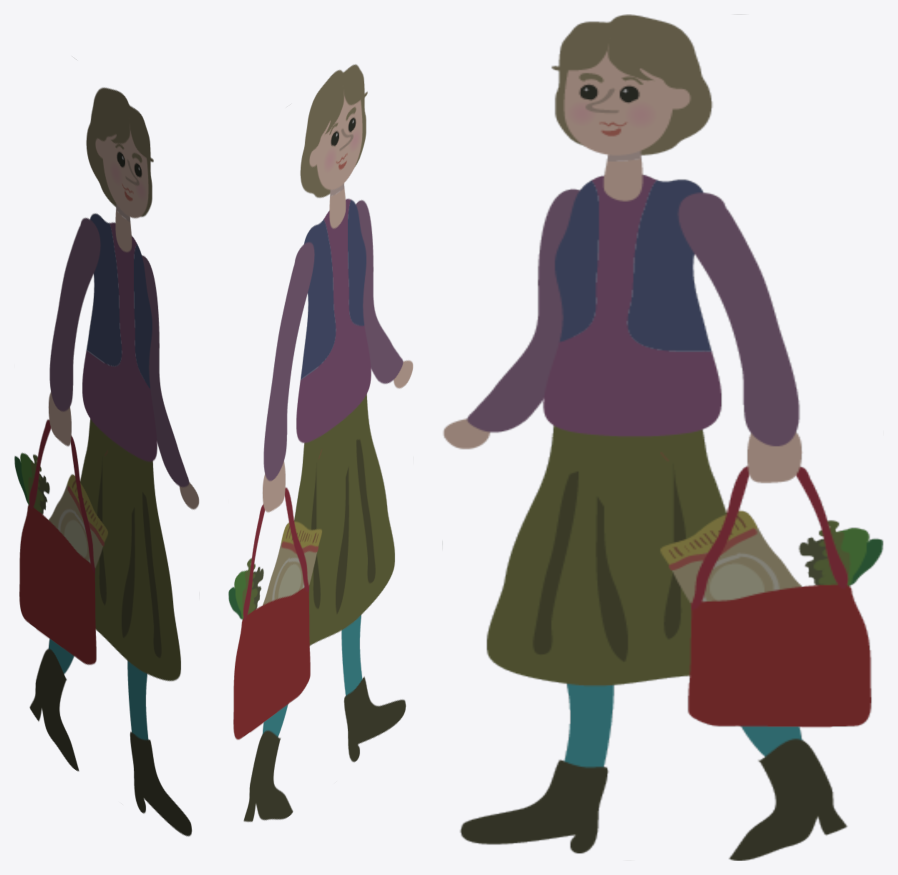
Rendered from bp_scene_6_woman.gltf.
3 views of the same model, side by side, from view 1: azimuth 30°, elevation 25°; view 2: azimuth 150°, elevation 25°; view 3: azimuth 270°, elevation 25° (orthographic). The views are drawn at different scales.
Parts seen in each view (by area): view 1: pPlaneShape3; view 2: pPlaneShape3; view 3: pPlaneShape3.
Part boxes in pixels (bbox=[...]): pPlaneShape3: bbox=[14, 87, 199, 836]; pPlaneShape3: bbox=[228, 64, 413, 822]; pPlaneShape3: bbox=[442, 14, 883, 860].
Size of the model in its own units: 0 by 0.57 by 0.269.
1 material, 1 textured.
